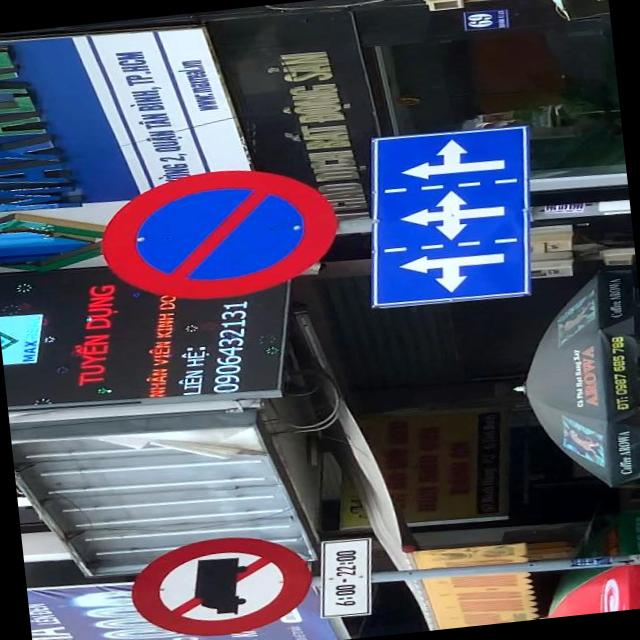P-131a: (95, 158, 342, 307)
